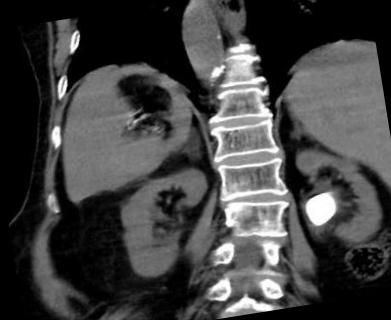Tas_Var: (301, 184, 341, 232)
